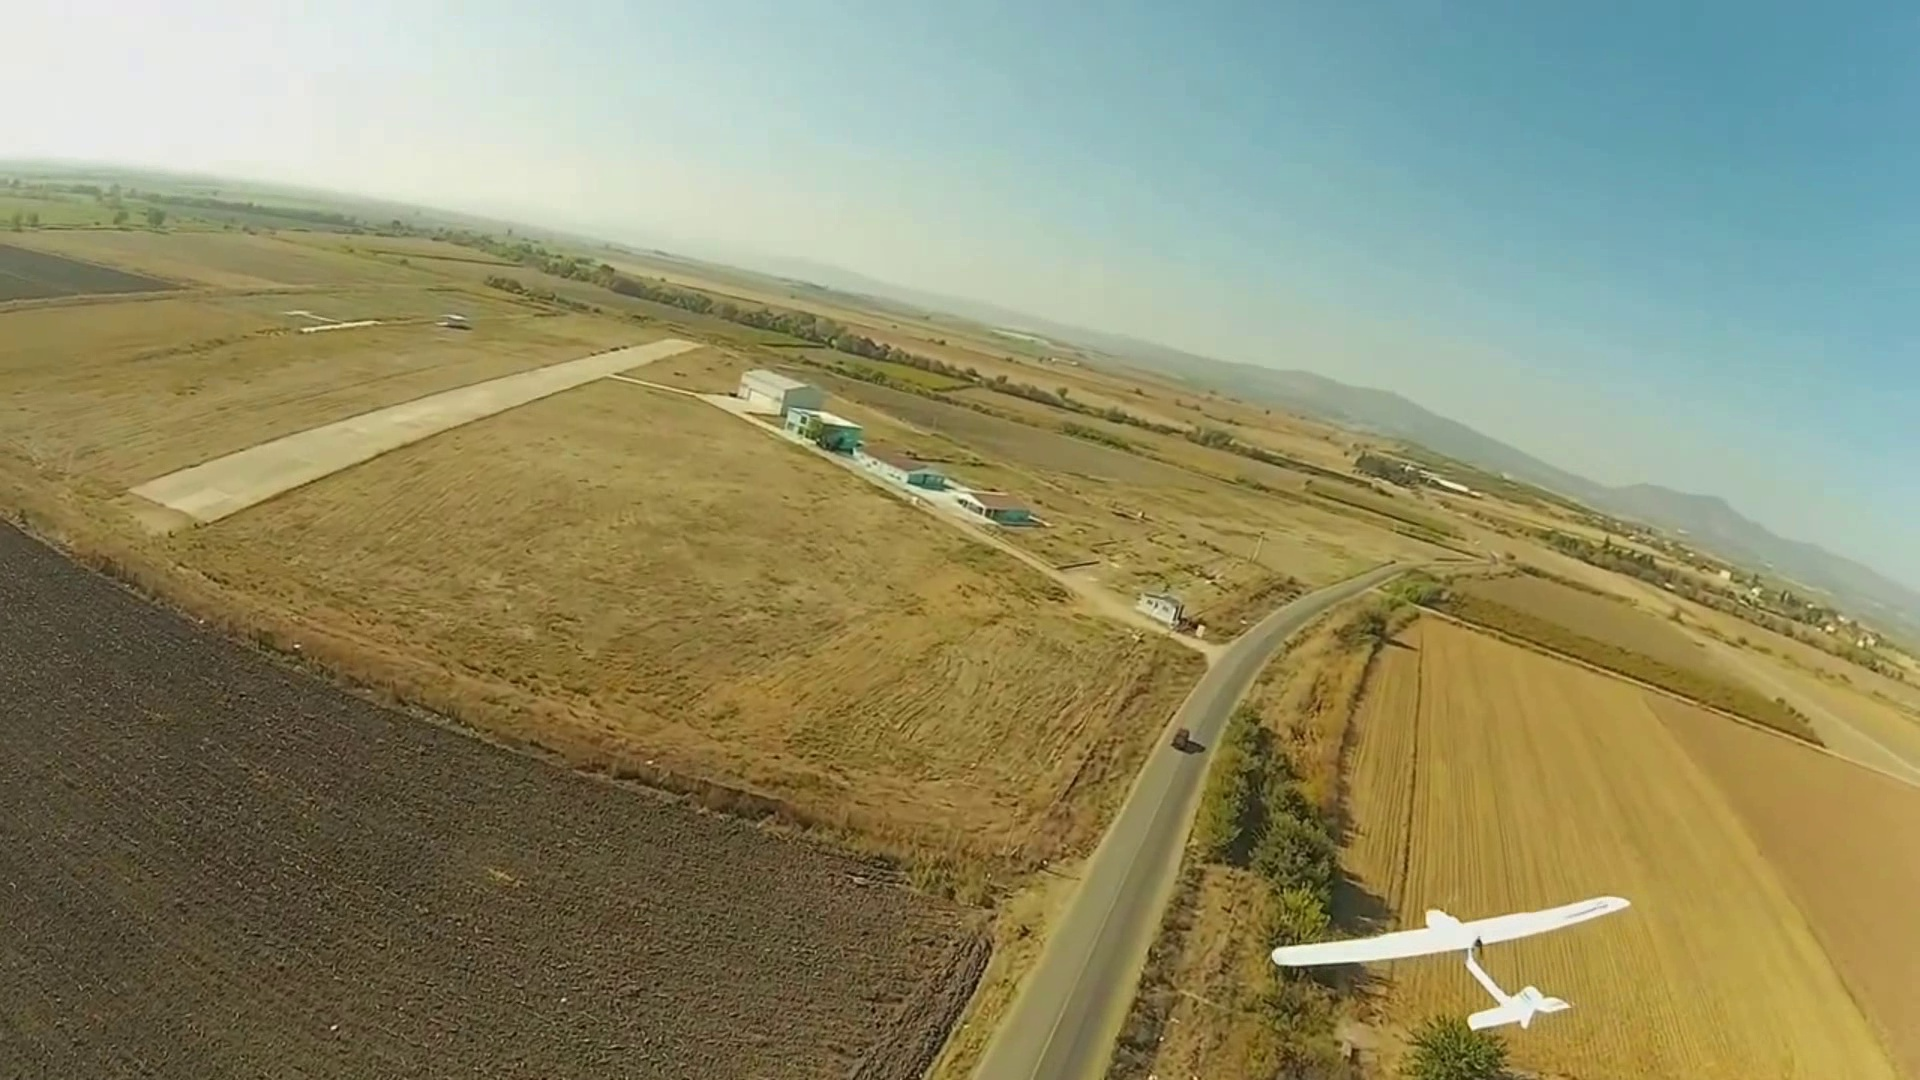airplane: (1270, 896, 1631, 1036)
